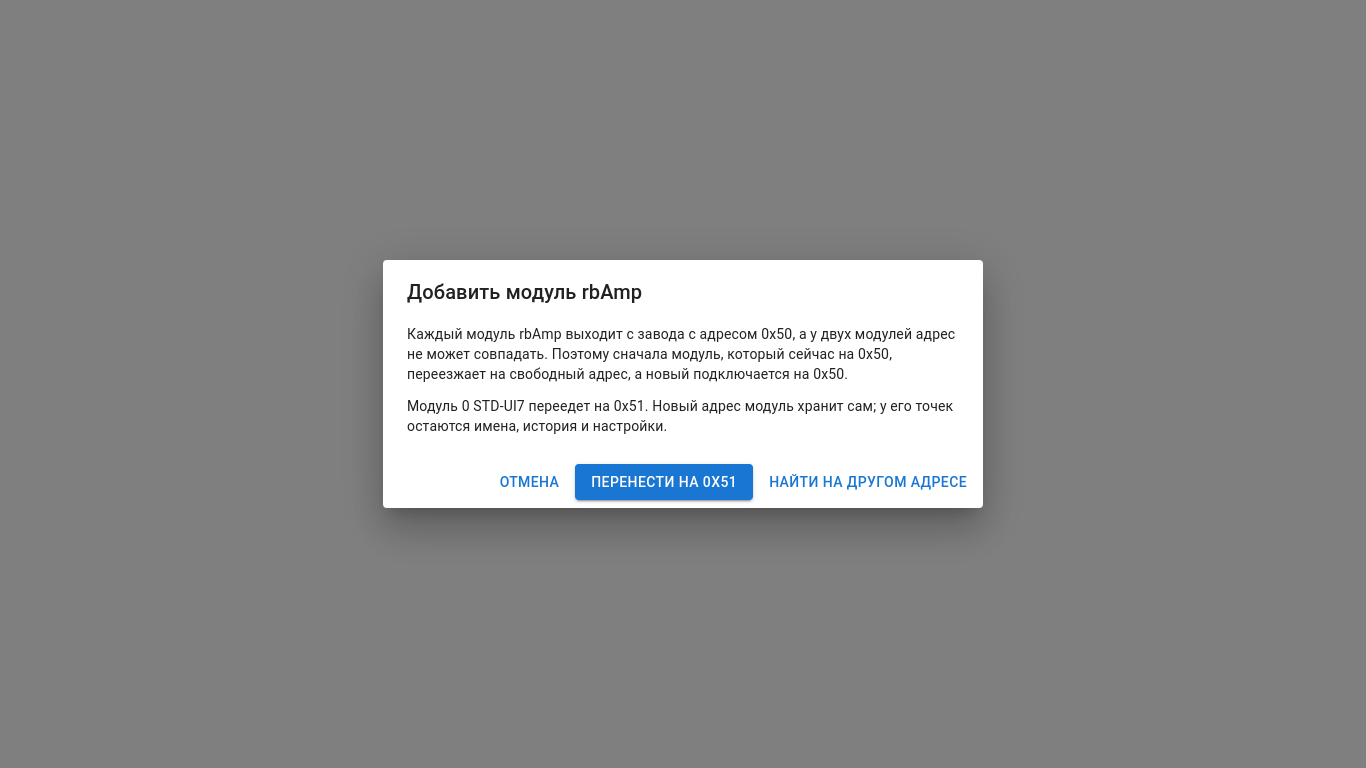
AddModuleDialog › moves the module at 0x50, then scans and adds the new one
The image size is (1366, 768).
Click the button "Перенести на 0x51" at x=664, y=482, box [575,464,753,500]
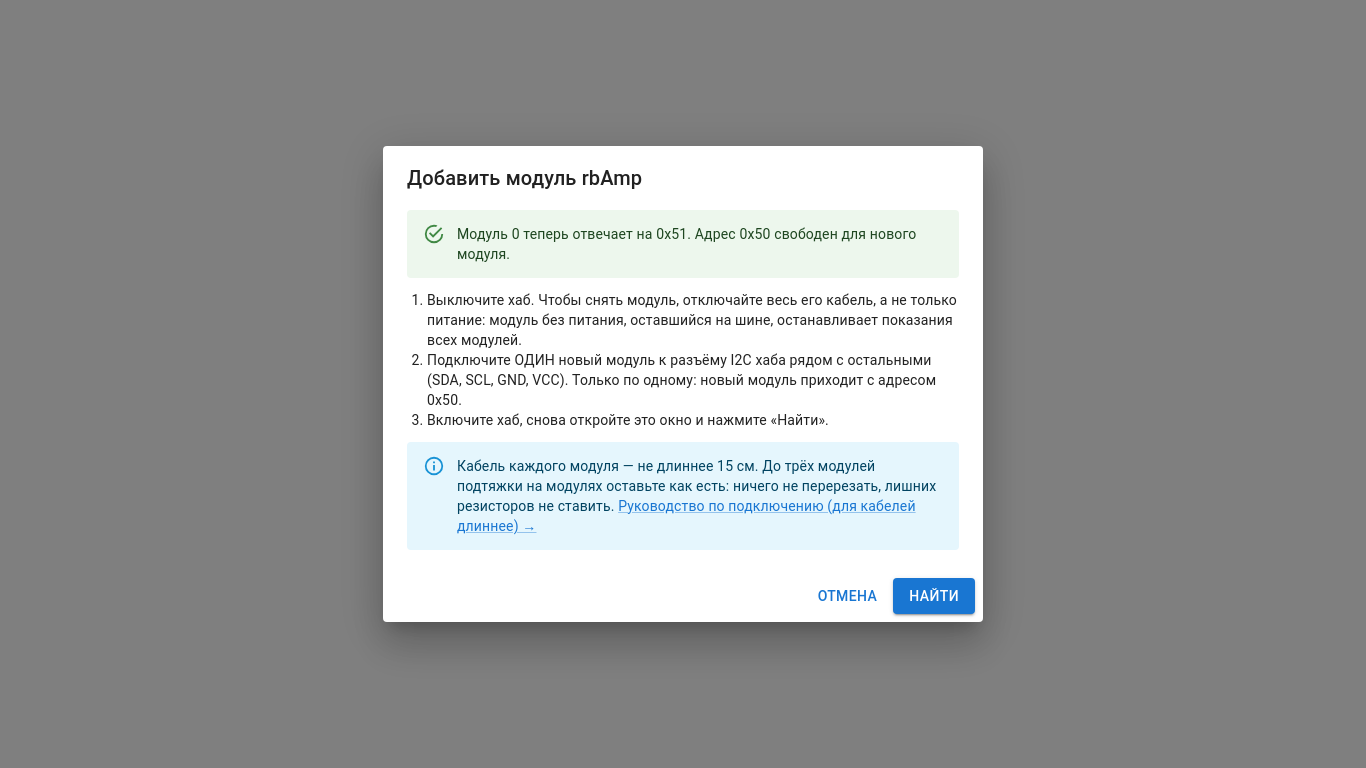
Click the button "Найти" at x=934, y=596, box [893,578,975,614]
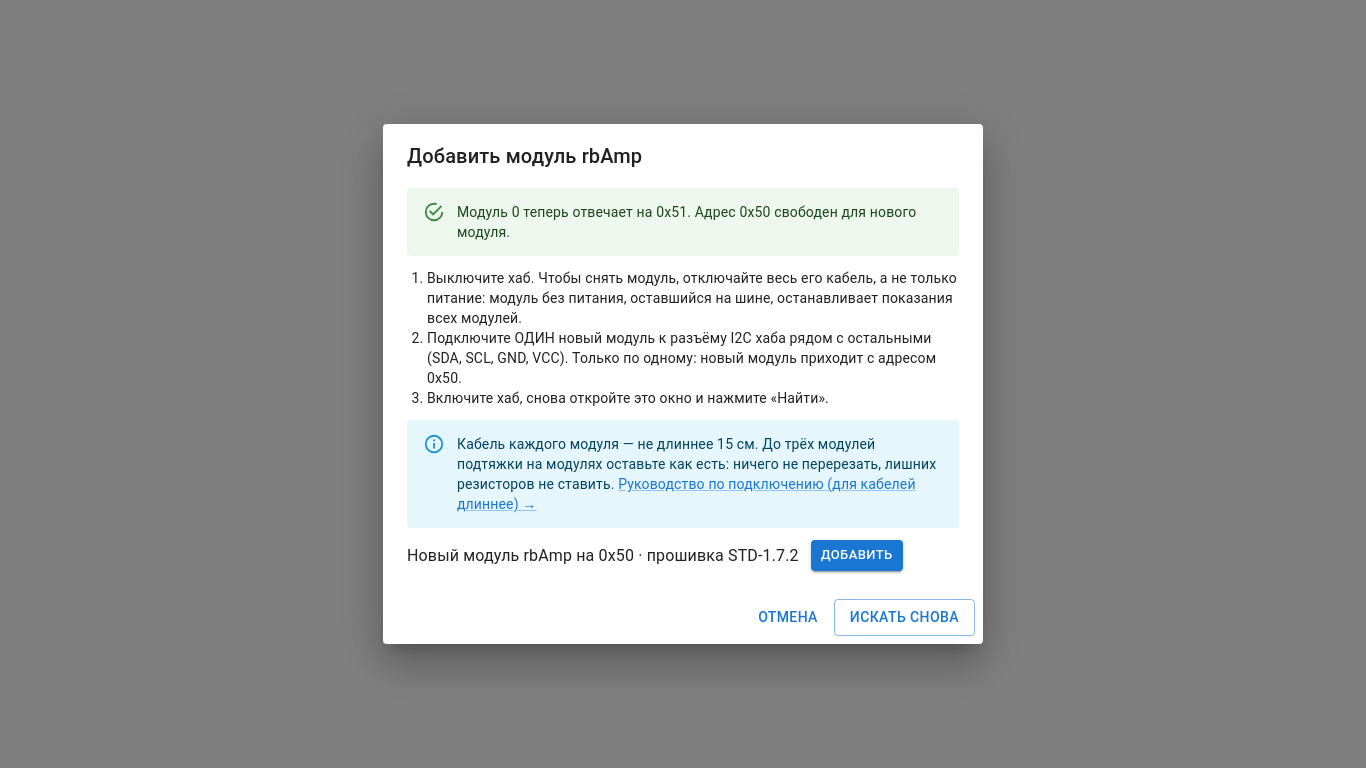
Click the button "Добавить" at x=857, y=556, box [811,540,903,571]
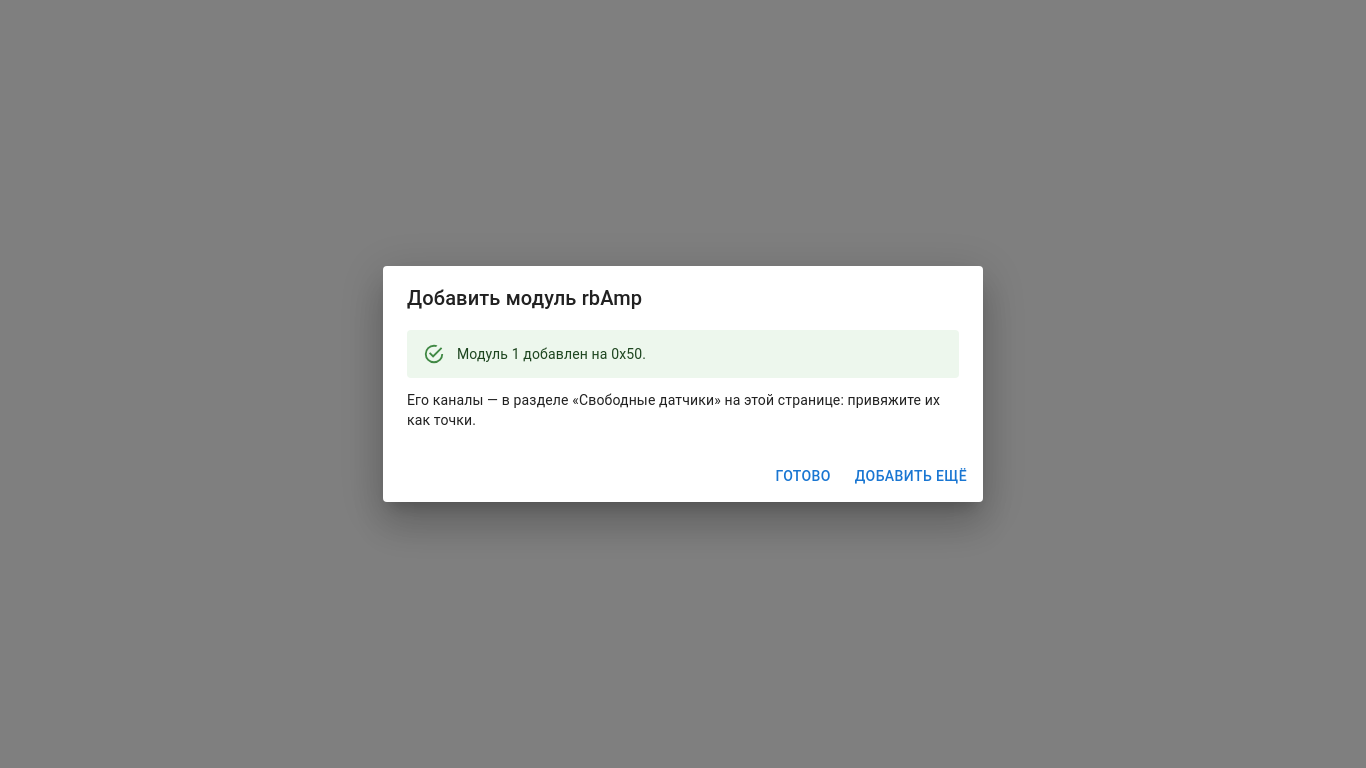
a third slot is left: «add another» brings back the move step for the new module at 0x50
Click the button "Добавить ещё" at x=911, y=476, box [847,458,975,494]
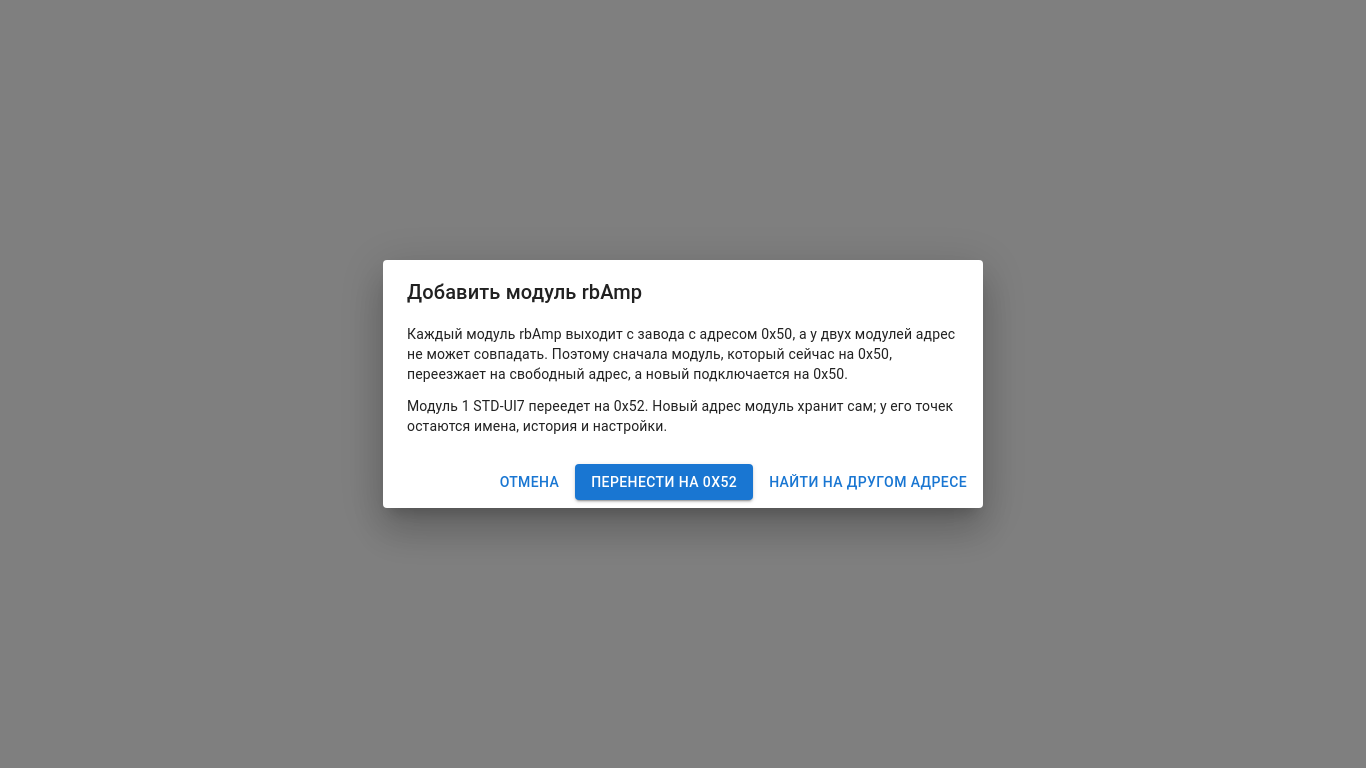
Now the button "Перенести на 0x52" is shown, box [575,464,753,500]
